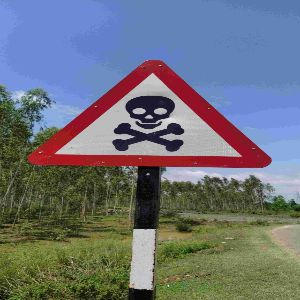Accident prone area: (24, 51, 280, 180)
